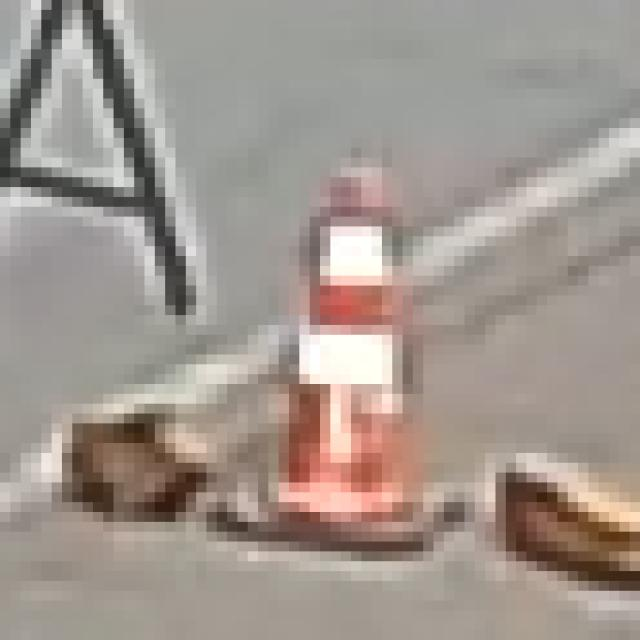small_cone: (236, 120, 457, 562)
